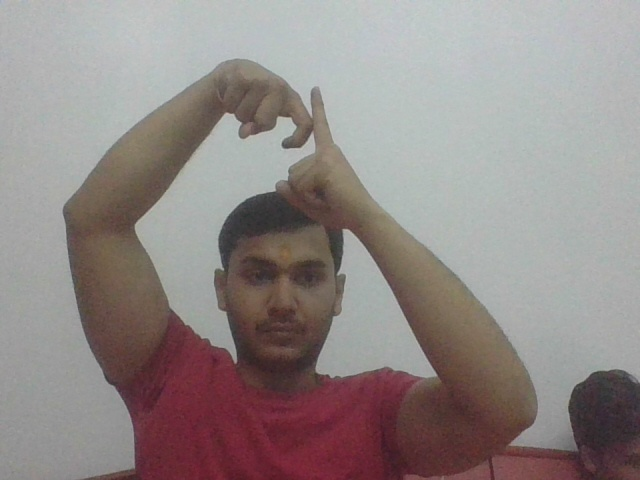K: (260, 82, 347, 173)
